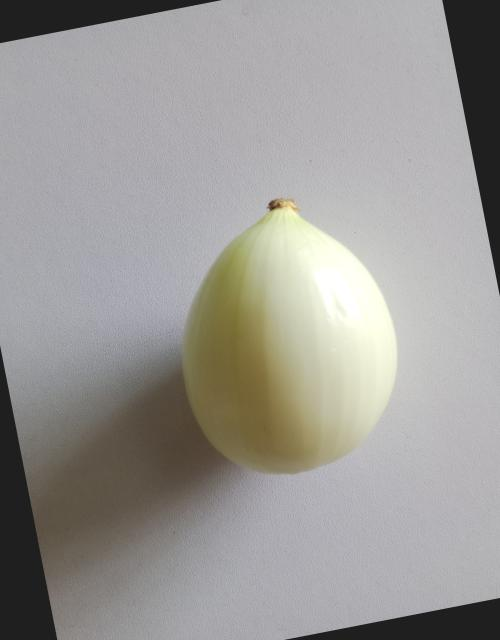Cebolla-: (115, 156, 442, 567)
